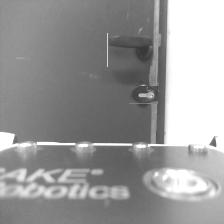Door Handle: (107, 33, 154, 67)
Lock: (131, 83, 155, 107)
